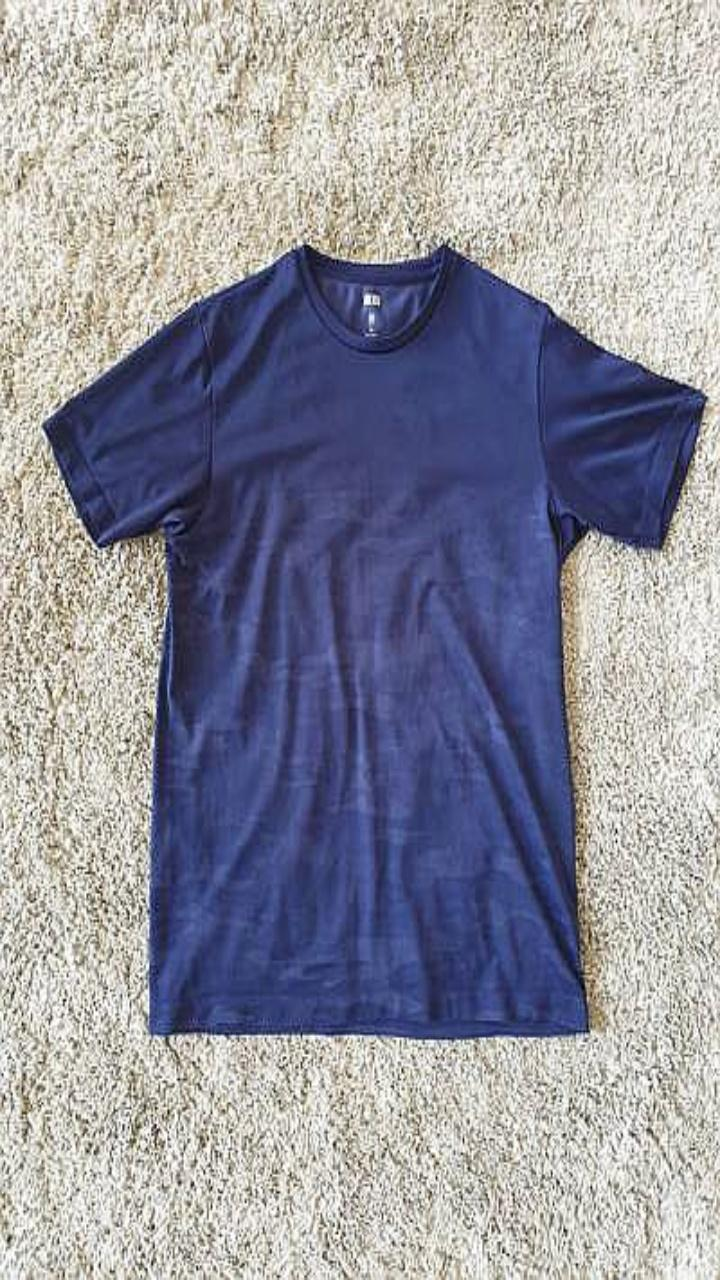T-Shirt: (43, 242, 705, 1037)
